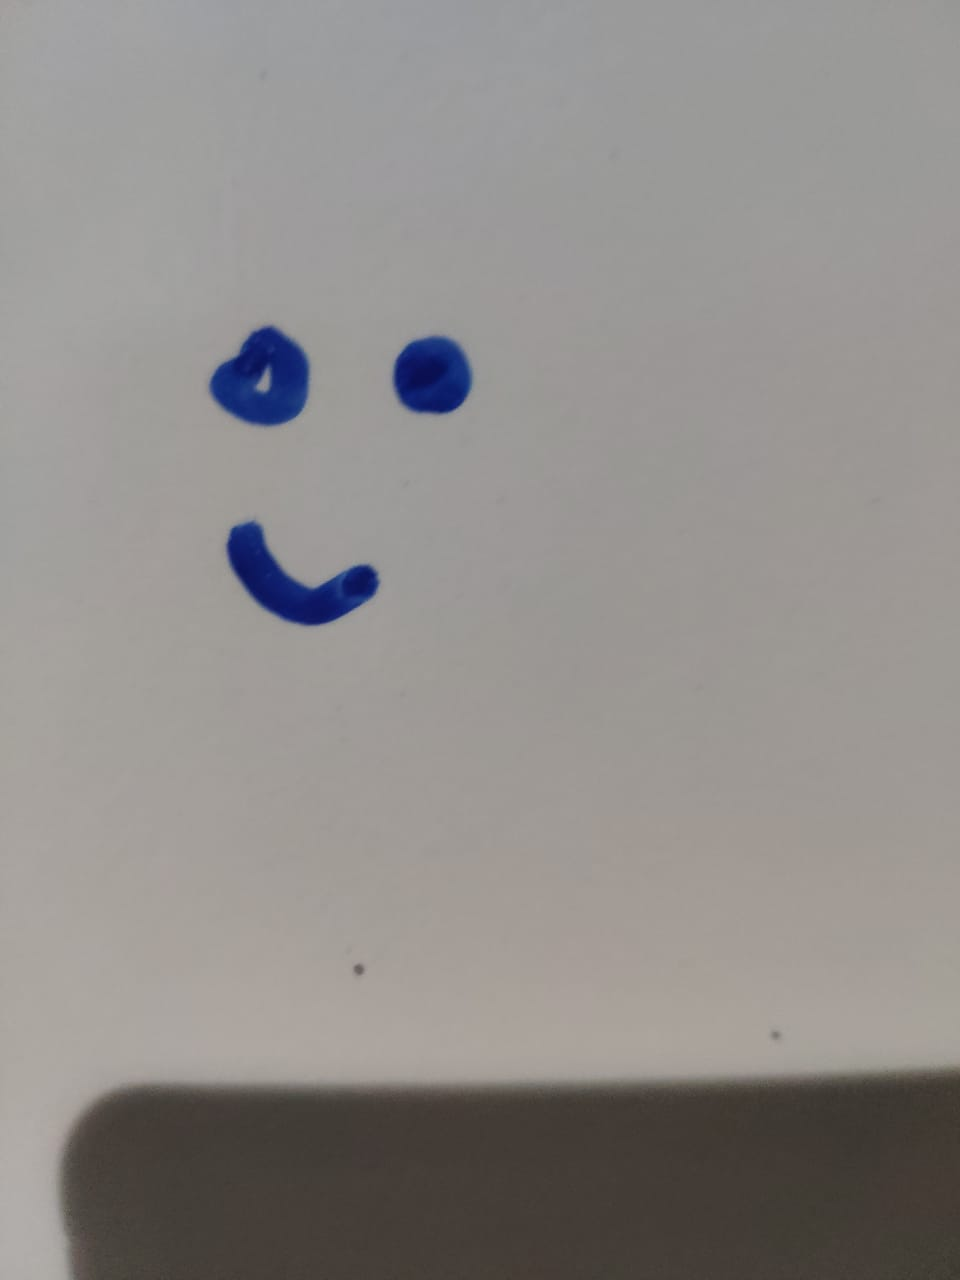feliz: (179, 302, 478, 684)
